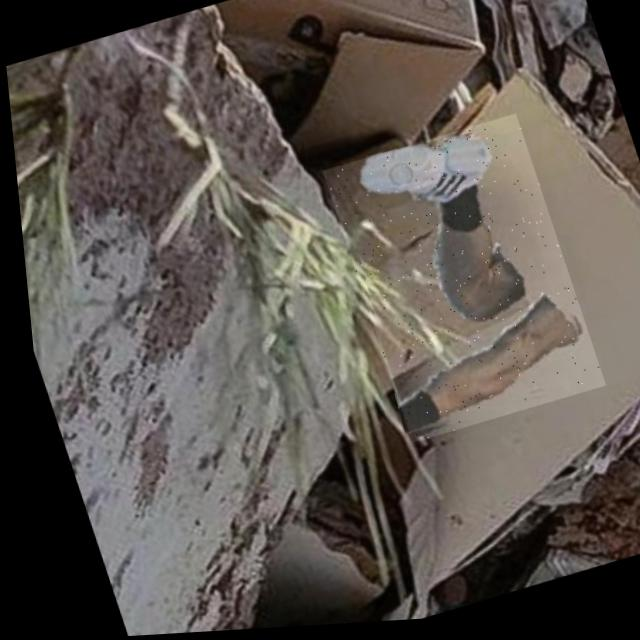Person in Rubble: (314, 117, 599, 450)
